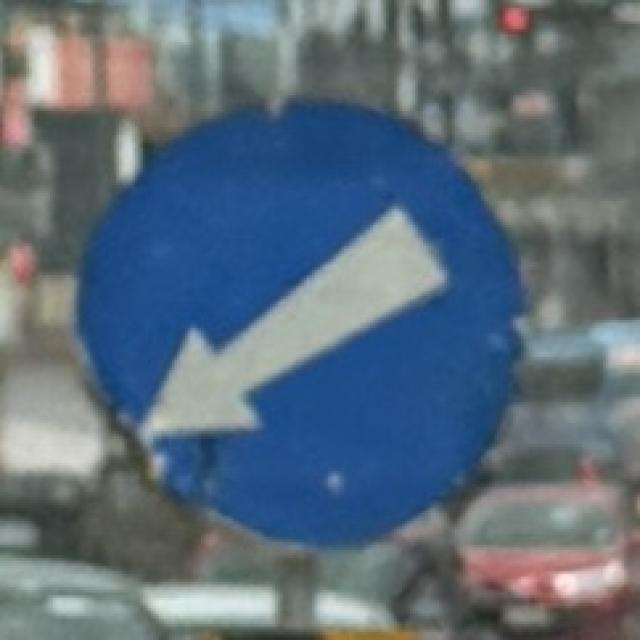KEEP_LEFT: (70, 95, 527, 560)
